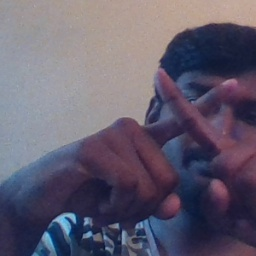X: (119, 57, 256, 190)
